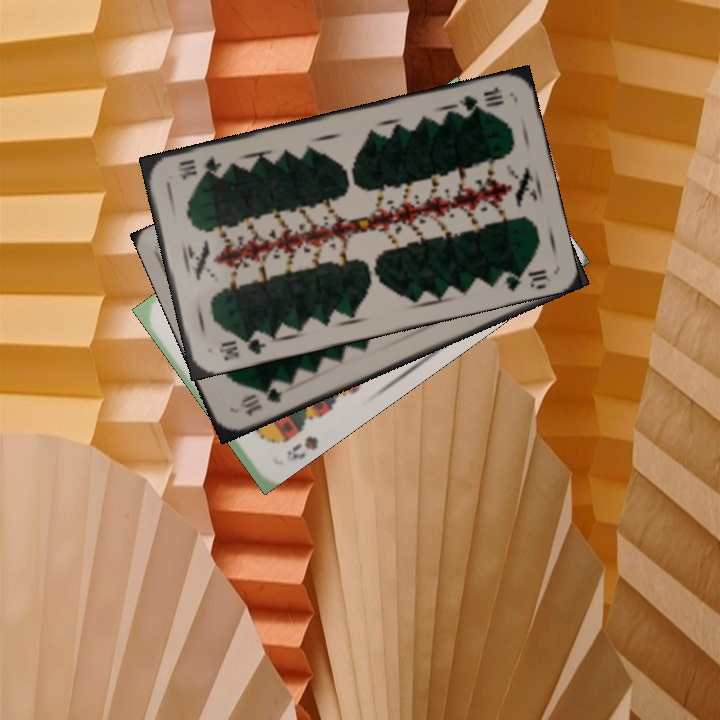G10: (215, 329, 269, 364), (235, 384, 287, 419), (450, 82, 506, 114)
S8: (281, 431, 322, 464)
